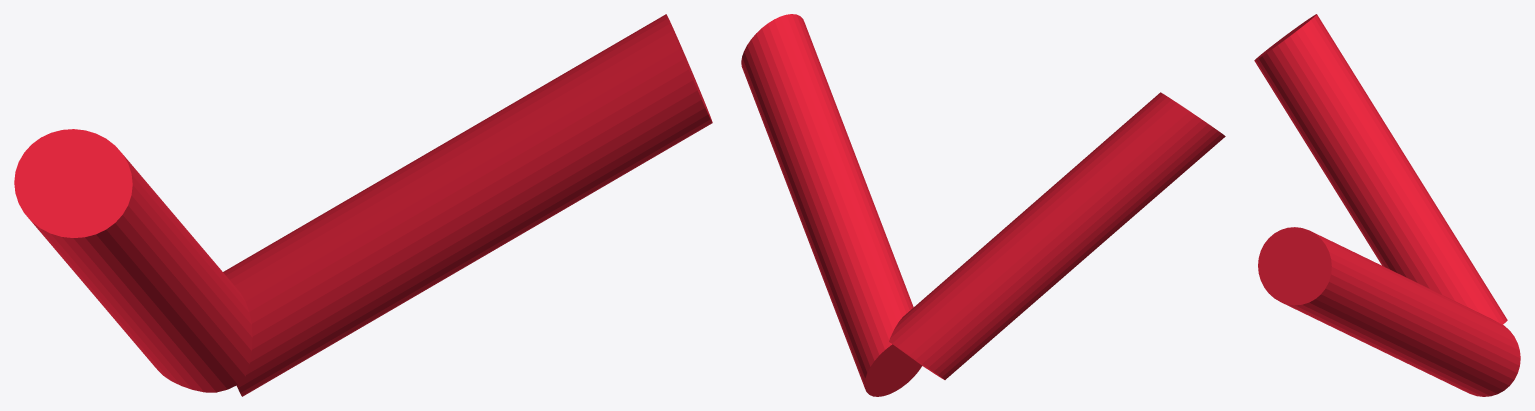
File: funda_picioare.fbx
The picture shows the model from 3 angles, left to right: view 1: azimuth 30°, elevation 25°; view 2: azimuth 150°, elevation 25°; view 3: azimuth 270°, elevation 25°; orthographic projection. The views are drawn at different scales.
Parts seen in each view (by area): view 1: Cylinder.002; view 2: Cylinder.002; view 3: Cylinder.002.
Part boxes in pixels (box(x1,y1,x2,y2)): Cylinder.002: box(14, 14, 712, 396); Cylinder.002: box(741, 14, 1225, 396); Cylinder.002: box(1254, 14, 1520, 396).
Size of the model in its own units: 69.56 by 40.66 by 34.82.
